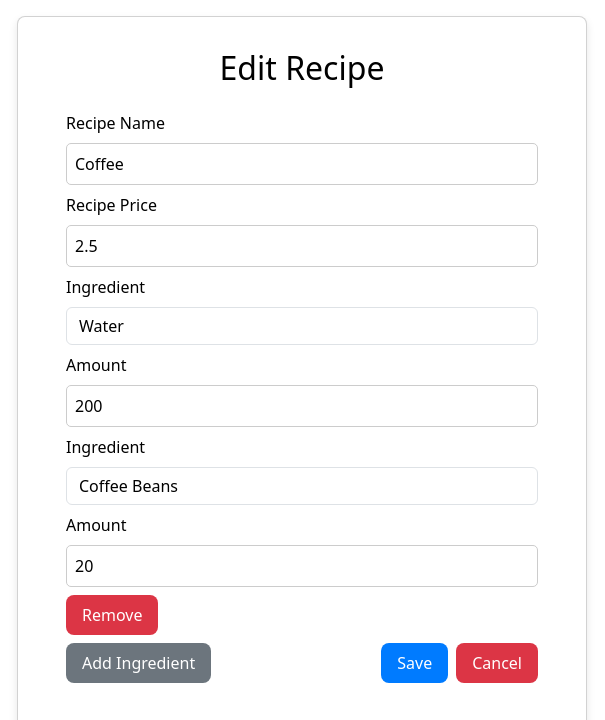
Test: EditRecipeComponent › shows validation error for invalid price
This screenshot has width=605, height=720.
Step 1. Replace the text in the field with placeholder "Enter Recipe Price" below "Recipe Price" with "-5" → (302, 246), box [66,225,538,267]
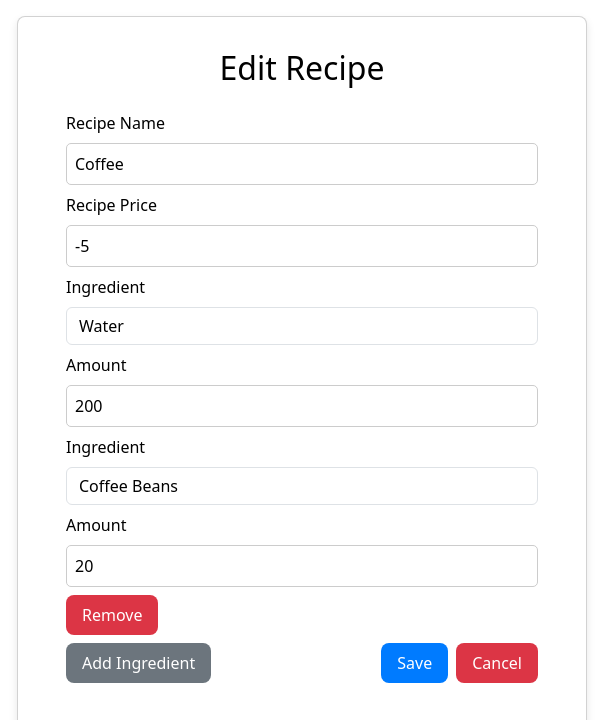
Step 2. Click the button "Save" → (415, 663), box [381,643,448,683]
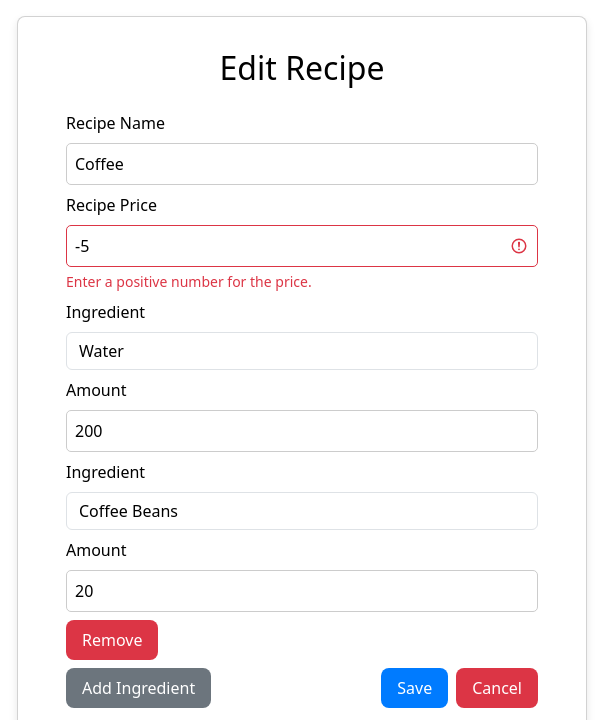
Expected: the text "Enter a positive number for the price." is shown, [66,272,312,291]
